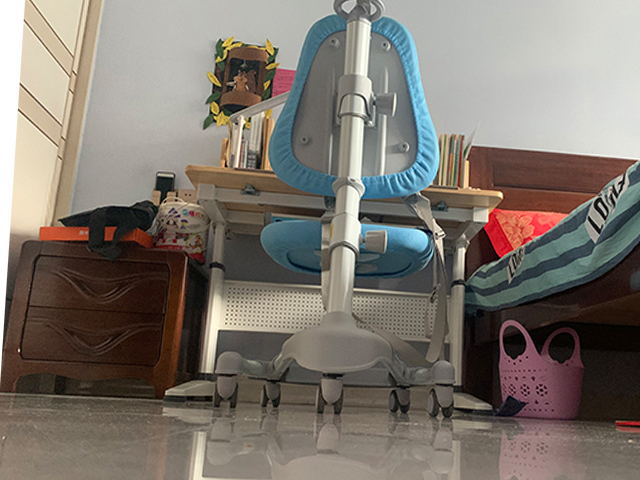bed: (464, 145, 640, 405)
cabinet: (2, 237, 206, 400)
table: (162, 163, 505, 414)
